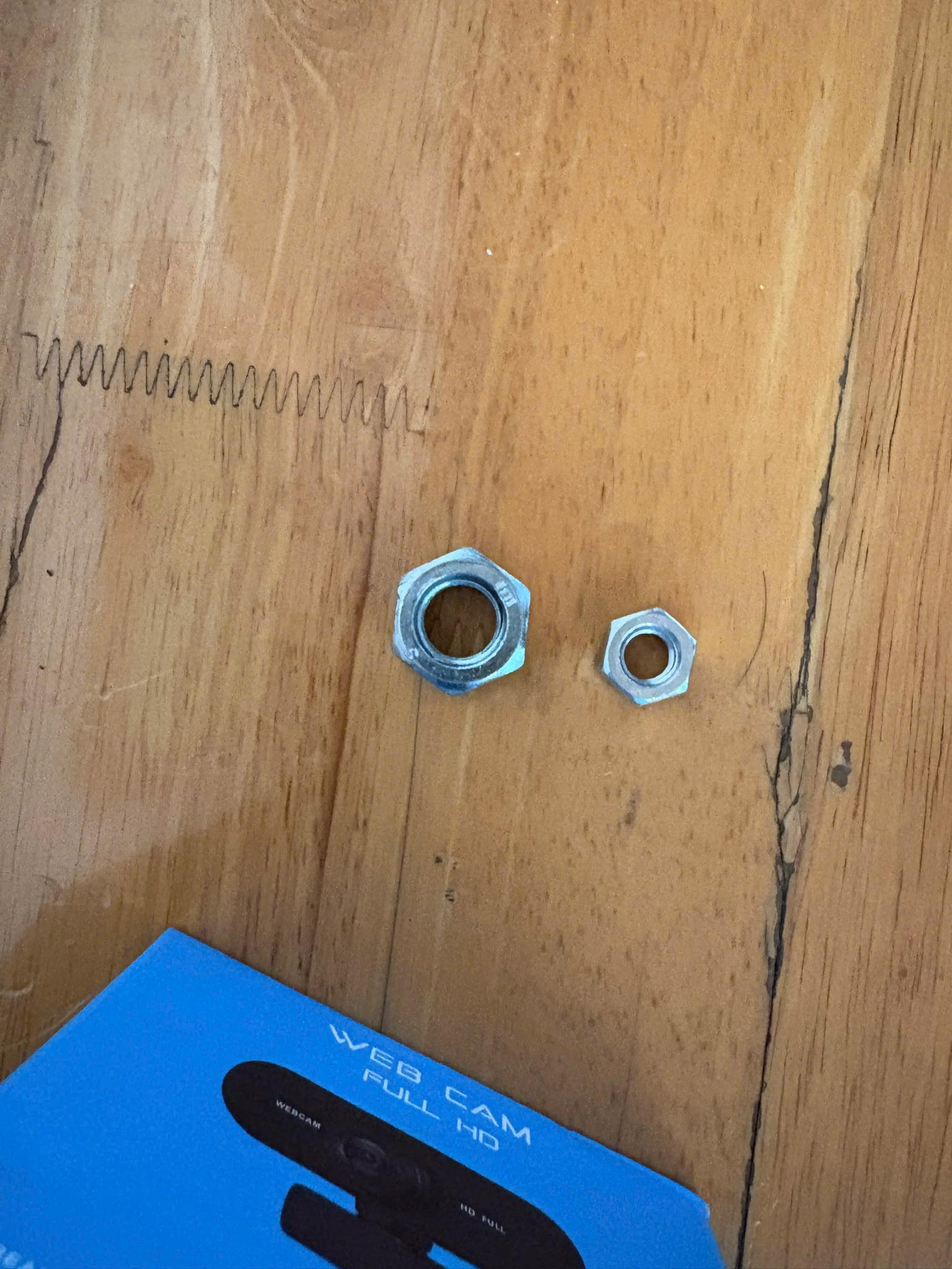nut: (377, 543, 547, 710), (602, 595, 702, 726)
